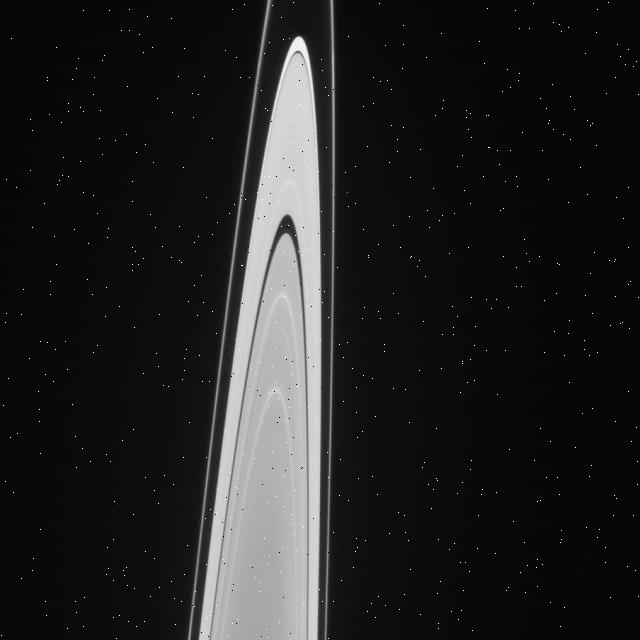Saturn: (181, 0, 335, 640)
